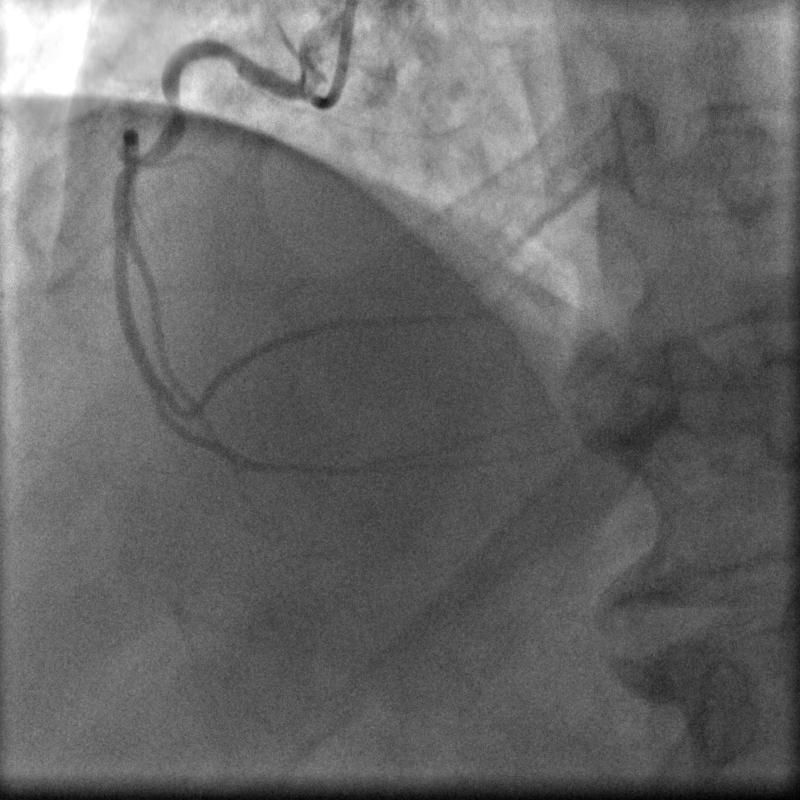Stenosis: (161, 92, 187, 125)
